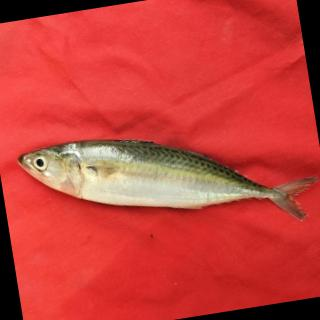Ikan: (1, 83, 320, 281)
